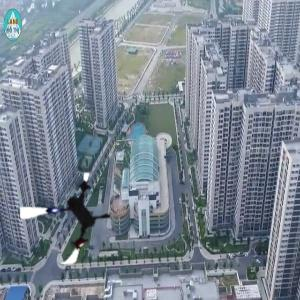drone: (16, 166, 119, 269)
